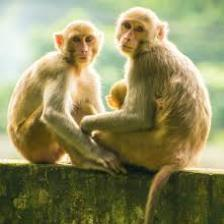monkey: (109, 12, 202, 169), (22, 7, 108, 172)
